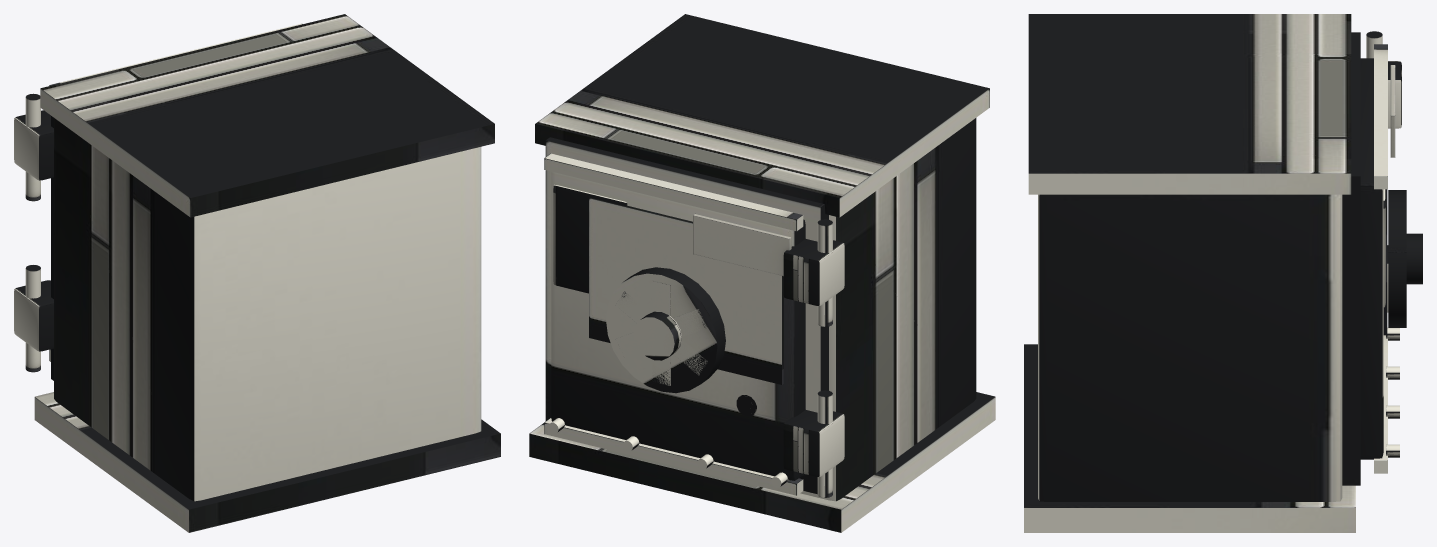
Rendered from PR_safe_box.glb.
3 views of the same model, side by side, from view 1: azimuth 30°, elevation 25°; view 2: azimuth 150°, elevation 25°; view 3: azimuth 270°, elevation 25° (orthographic). The views are drawn at different scales.
Visible parts, largest first — view 1: PR_safe_box; view 2: PR_safe_box; view 3: PR_safe_box.
Part boxes in pixels (x1,y1,x2,y2): PR_safe_box: [14, 14, 500, 532]; PR_safe_box: [529, 14, 995, 532]; PR_safe_box: [1024, 14, 1422, 532].
Bounding box in the file's own units: 0.84 × 0.855 × 0.865.
Materials: 1 (1 with a texture image).
